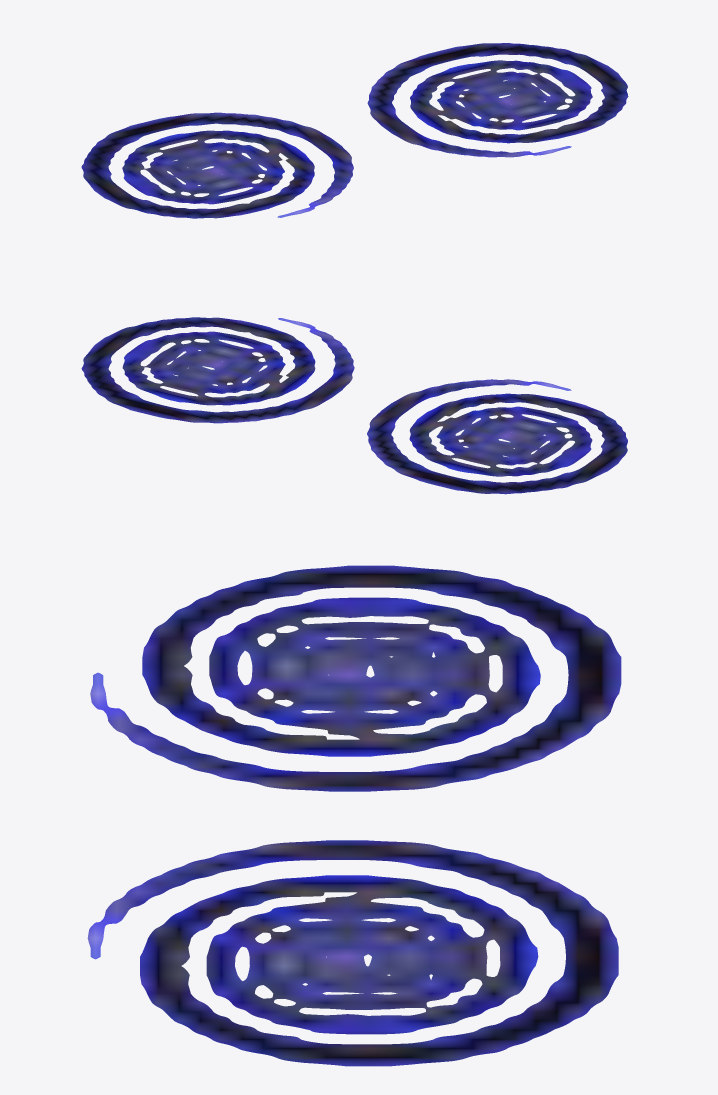
File: hypno-goggles.glb
3 views of the same model, one above another, from view 1: azimuth 30°, elevation 25°; view 2: azimuth 150°, elevation 25°; view 3: azimuth 270°, elevation 25° (orthographic). The views are drawn at different scales.
Parts seen in each view (by area): view 1: right, left; view 2: left, right; view 3: left, right.
Boxes of the visible parts, box(x1,y1,x2,y2) form: right: box(367, 43, 628, 157); left: box(81, 112, 353, 218); left: box(367, 379, 627, 494); right: box(81, 317, 354, 423); left: box(90, 565, 621, 791); right: box(87, 840, 618, 1066).
Bounding box in the file's own units: 1.04 × 0 × 0.4894.
Materials: 1 (1 with a texture image).
